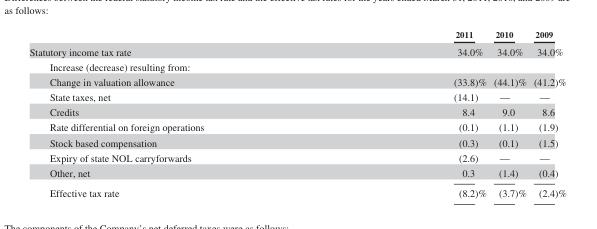table: (28, 28, 565, 198)
table column: (28, 28, 328, 198), (328, 28, 489, 198), (489, 28, 529, 198), (529, 28, 565, 198)
table column header: (28, 28, 565, 42)
table projected row header: (28, 58, 565, 74)
table row: (28, 164, 565, 182), (28, 42, 565, 58), (28, 58, 565, 74), (28, 182, 565, 198), (28, 74, 565, 89), (28, 89, 565, 104), (28, 104, 565, 119), (28, 119, 565, 134), (28, 134, 565, 149), (28, 149, 565, 164), (28, 28, 565, 42)
